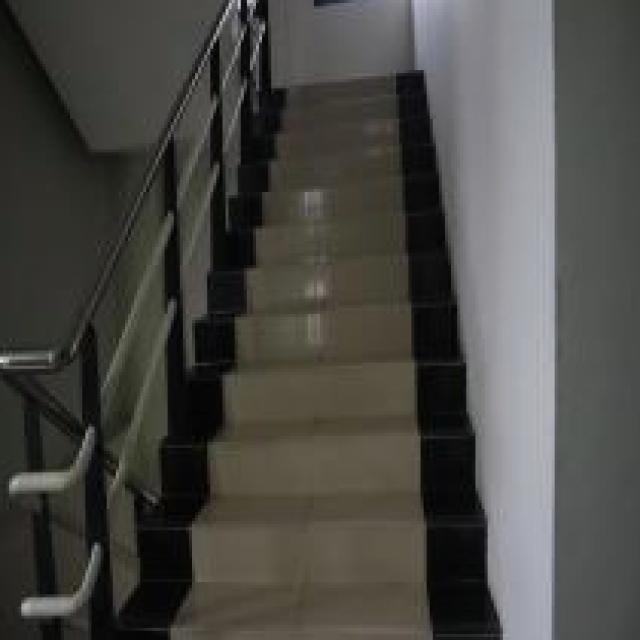upstair: (202, 165, 452, 640)
